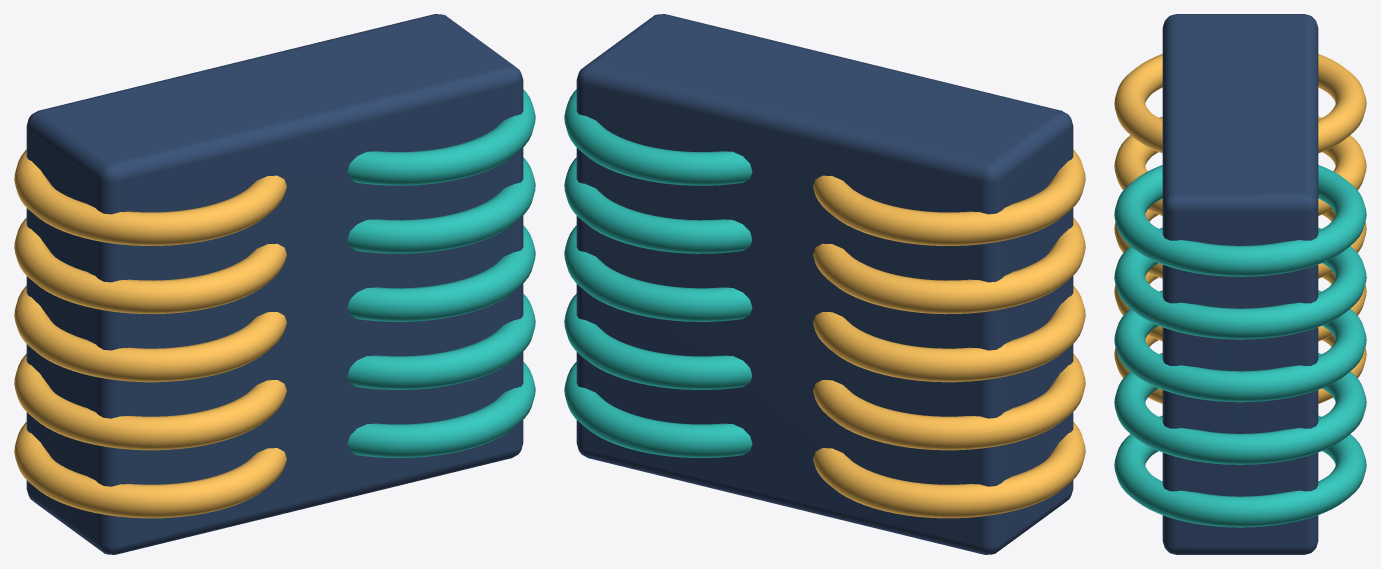
Rendered from transformer-quality.glb.
The picture shows the model from 3 angles, left to right: view 1: azimuth 30°, elevation 25°; view 2: azimuth 150°, elevation 25°; view 3: azimuth 270°, elevation 25°; orthographic projection. The views are drawn at different scales.
Parts seen in each view (by area): view 1: Core; view 2: Core; view 3: Core.
Boxes of the visible parts, box(x1,y1,x2,y2) form: Core: box(14, 14, 535, 554); Core: box(564, 14, 1085, 554); Core: box(1114, 14, 1366, 554).
Bounding box in the file's own units: 1.49 × 1.15 × 0.73.
